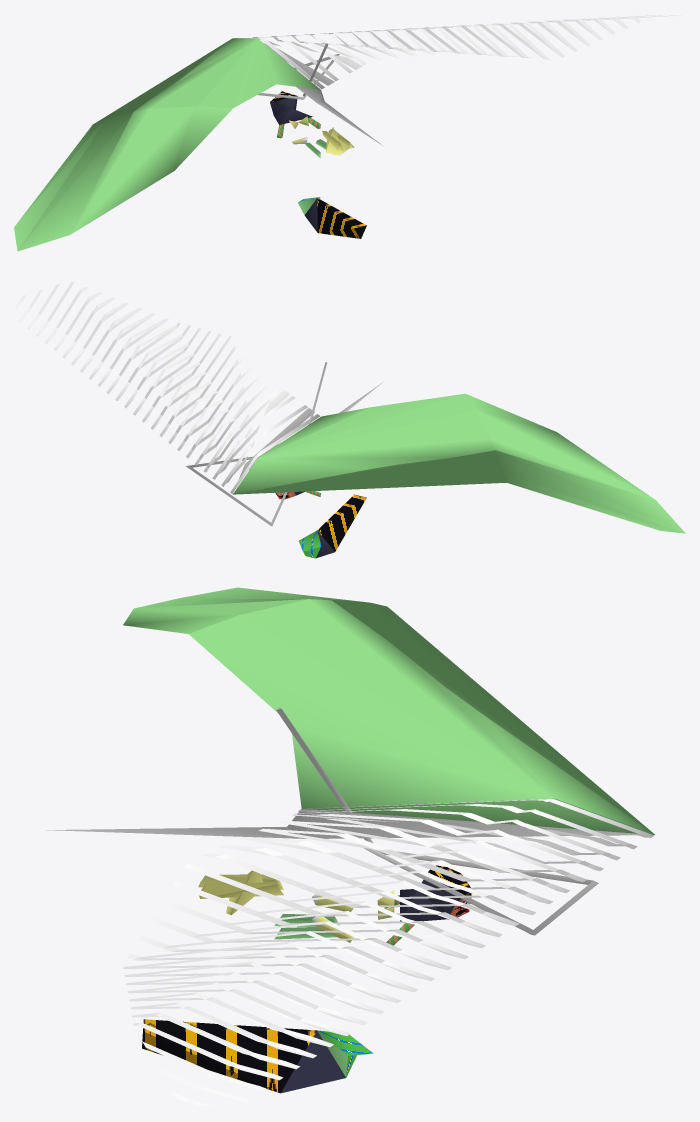
File: uvmd-0290.glb
3 renders of one model, top to bottom at view 1: azimuth 30°, elevation 25°; view 2: azimuth 150°, elevation 25°; view 3: azimuth 270°, elevation 25°, orthographic. The views are drawn at different scales.
Visible parts, largest first — view 1: uvmd-0290; view 2: uvmd-0290; view 3: uvmd-0290.
Part boxes in pixels (box(x1,y1,x2,y2)): uvmd-0290: box(14, 15, 681, 251); uvmd-0290: box(15, 281, 685, 558); uvmd-0290: box(45, 587, 654, 1106).
Size of the model in its own units: 846 by 229 by 335.
8 materials, 8 textured.
